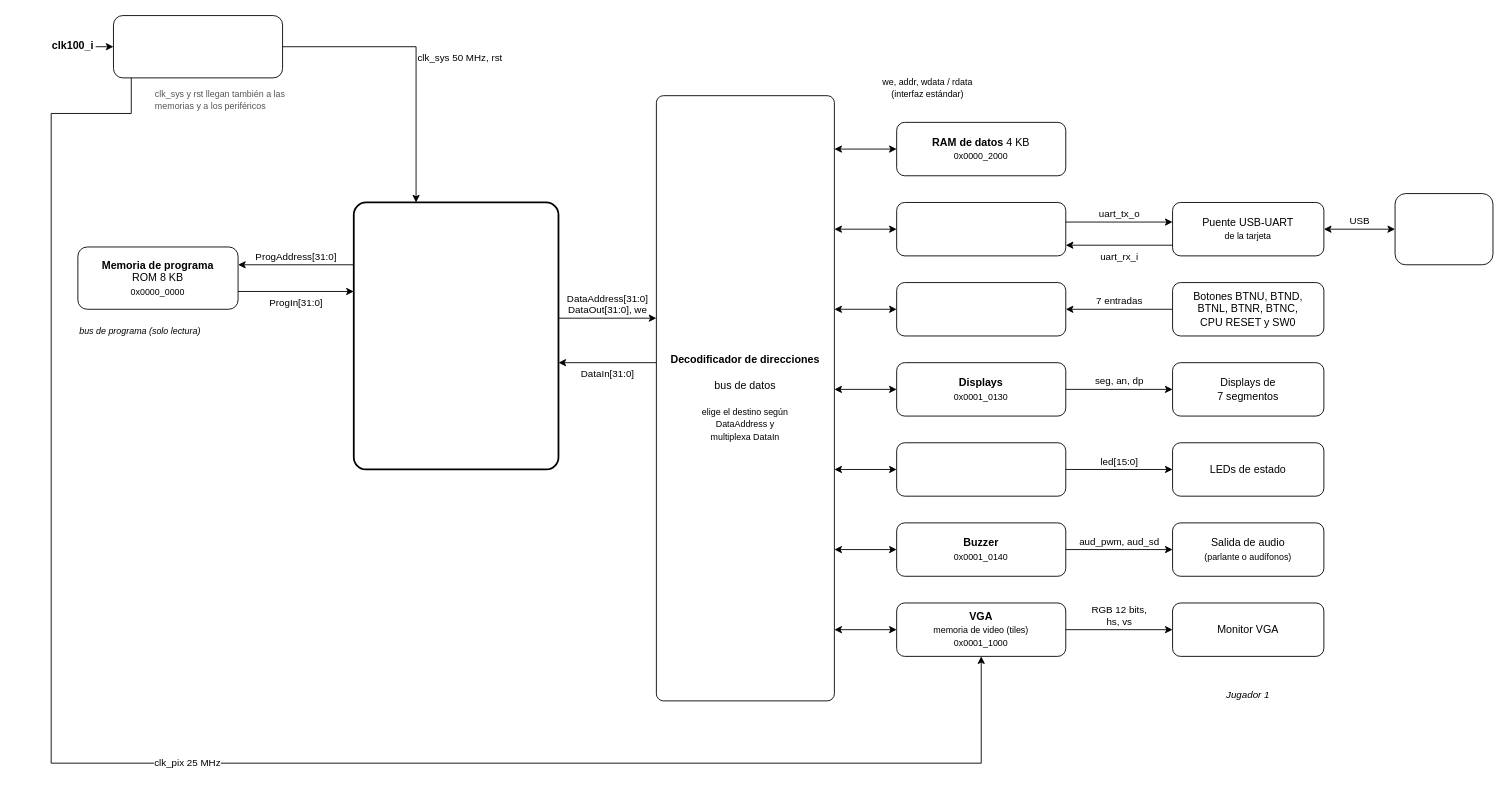
Some shapes in this 1509 by 786 pixel diagram are drawn without their labels. The centre of each missing label's shape, as x and y in pixels:
"Entradas J1 antirrebote 0x0001_0120" belongs at (x=981, y=309).
"Generación de reloj PLL (clk_gen)" belongs at (x=198, y=46).
"LED 0x0001_0138" belongs at (x=981, y=469).
"PC Python Jugador 2" belongs at (x=1443, y=229).
"Procesador RISC-V RV32I uniciclo datapath + unidad de control" belongs at (x=455, y=335).
"UART 0x0001_0040" belongs at (x=981, y=229).
